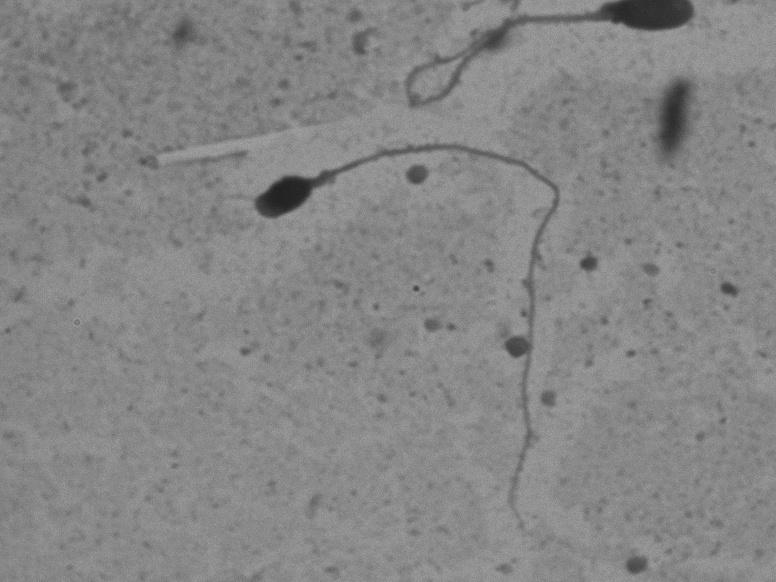Abnormal: (248, 120, 614, 546)
